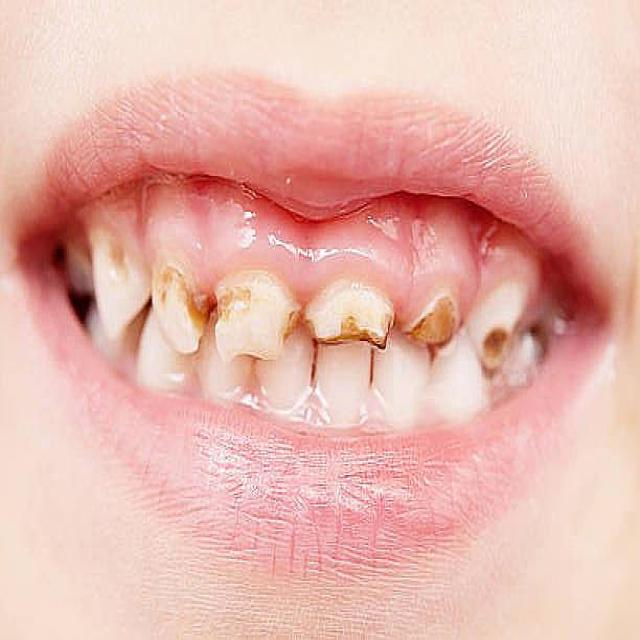caries: (207, 274, 298, 369), (304, 272, 398, 360), (149, 258, 210, 355), (407, 284, 469, 363), (96, 222, 146, 304), (474, 309, 520, 379)
